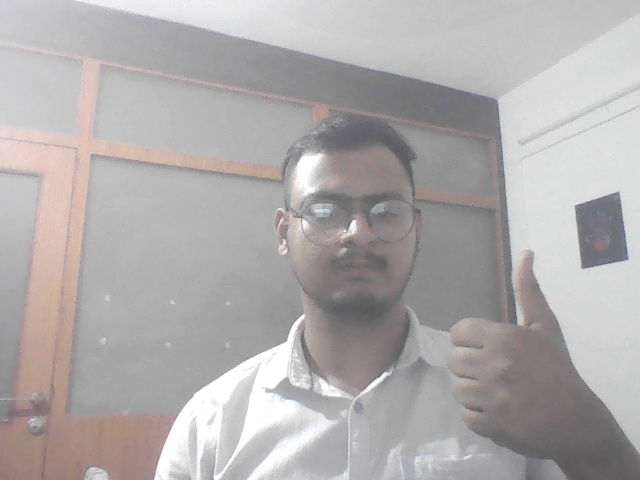Good: (440, 238, 575, 460)
